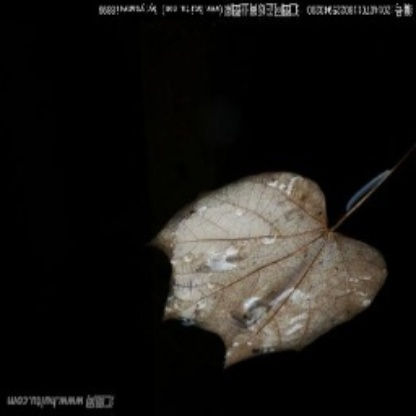leaf: (140, 168, 391, 370)
